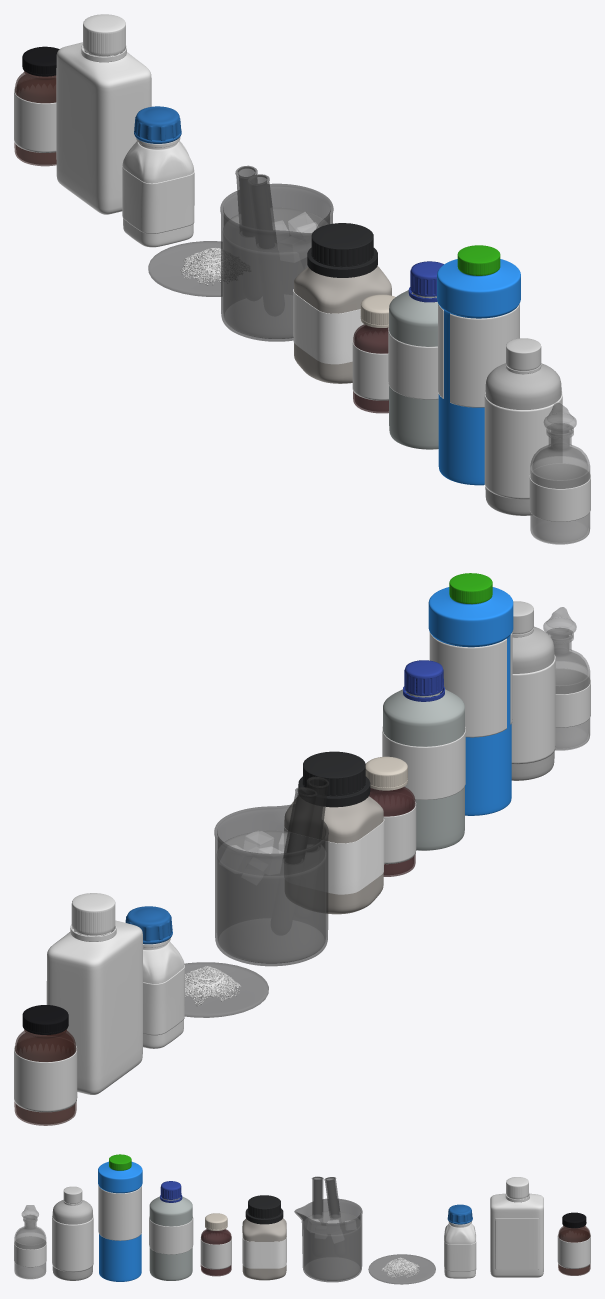
File: assorted_bottle_-_chemical_lab.glb
3 views of the same model, one above another, from view 1: azimuth 30°, elevation 25°; view 2: azimuth 150°, elevation 25°; view 3: azimuth 270°, elevation 25° (orthographic). The views are drawn at different scales.
Parts seen in each view (by area): view 1: Icewater, Cylinder.008, Copper Sulphate btl, NaOH Cover, Copper Sulphate Cover, Ferric Chloride cover.001, Naphtholin Btl, Alcohol Btl, Cylinder.003, NaOH Btl, Cylinder.015, Naphtholin CaP (+18 smaller); view 2: Icewater, Cylinder.008, Copper Sulphate btl, Ferric Chloride cover.001, Copper Sulphate Cover, Naphtholin Btl, Naphtholin Cover, NaOH Cover, Sodium NitroPrusside Cover.001, Ferric Chloride cover, Naphtholin CaP, Alcohol Btl (+17 smaller); view 3: Icewater, Copper Sulphate btl, Cylinder.004, Ferric Chloride cover.001, Cylinder.008, Copper Sulphate Cover, NaOH Cover, Naphtholin Btl, Ferric Chloride cover, Naphtholin Cover, Hourglass, Alcohol Btl (+19 smaller).
Part boxes in pixels (<box>): Icewater: <box>220,165,333,341</box>; Cylinder.008: <box>56,42,151,214</box>; Copper Sulphate btl: <box>437,259,520,485</box>; NaOH Cover: <box>484,390,562,499</box>; Copper Sulphate Cover: <box>438,303,519,407</box>; Ferric Chloride cover.001: <box>389,290,438,449</box>; Naphtholin Btl: <box>294,265,391,383</box>; Alcohol Btl: <box>530,423,590,544</box>; Cylinder.003: <box>122,165,194,233</box>; NaOH Btl: <box>485,363,561,515</box>; Cylinder.015: <box>122,137,193,247</box>; Naphtholin CaP: <box>307,223,377,277</box>; Icewater: <box>214,776,329,966</box>; Cylinder.008: <box>46,920,142,1094</box>; Copper Sulphate btl: <box>428,587,513,815</box>; Ferric Chloride cover.001: <box>383,689,464,850</box>; Copper Sulphate Cover: <box>429,632,512,737</box>; Naphtholin Btl: <box>284,796,383,914</box>; Naphtholin Cover: <box>284,818,384,894</box>; NaOH Cover: <box>511,655,555,764</box>; Sodium NitroPrusside Cover.001: <box>14,1043,77,1112</box>; Ferric Chloride cover: <box>382,726,465,799</box>; Naphtholin CaP: <box>298,751,370,807</box>; Alcohol Btl: <box>546,628,590,750</box>; Icewater: <box>294,1176,362,1282</box>; Copper Sulphate btl: <box>98,1161,142,1281</box>; Cylinder.004: <box>495,1218,539,1269</box>; Ferric Chloride cover.001: <box>149,1196,192,1280</box>; Cylinder.008: <box>490,1193,543,1277</box>; Copper Sulphate Cover: <box>98,1185,141,1240</box>; NaOH Cover: <box>52,1214,93,1272</box>; Naphtholin Btl: <box>242,1218,286,1280</box>; Ferric Chloride cover: <box>149,1216,193,1254</box>; Naphtholin Cover: <box>242,1229,286,1268</box>; Hourglass: <box>368,1254,435,1284</box>; Alcohol Btl: <box>14,1215,46,1279</box>.
Size of the model in its own units: 2.4 by 4.53 by 20.47.
